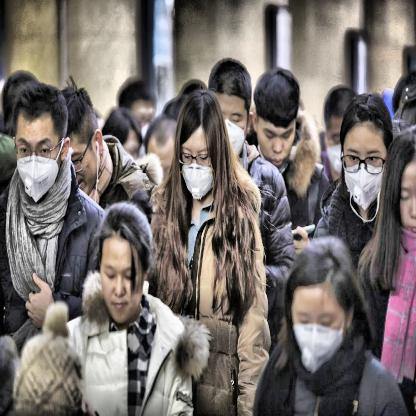not_wear: (292, 237, 352, 368), (5, 81, 66, 209), (178, 85, 226, 205), (339, 96, 389, 201), (98, 228, 148, 328), (209, 56, 250, 144), (255, 68, 299, 146), (117, 78, 153, 160), (394, 136, 416, 249), (150, 101, 178, 177), (324, 84, 354, 150)
